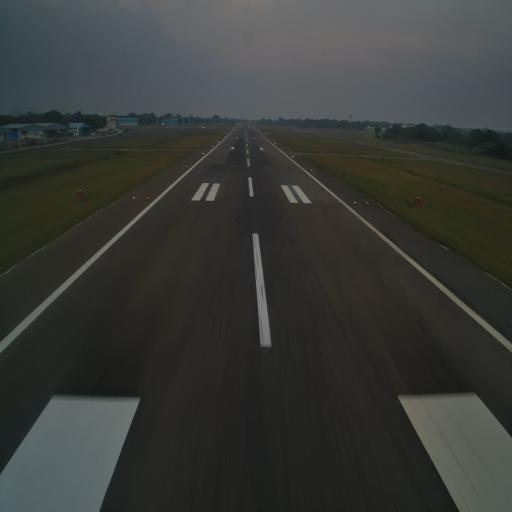on: (354, 199, 358, 206), (366, 199, 370, 206), (145, 195, 148, 201), (132, 196, 136, 200)
